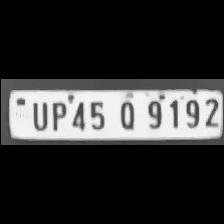1: (164, 97, 182, 129)
2: (200, 96, 220, 128)
4: (66, 98, 86, 132)
5: (84, 98, 106, 132)
9: (141, 97, 163, 130), (180, 96, 200, 130)
P: (47, 99, 67, 130)
Q: (113, 97, 140, 130)
U: (28, 98, 48, 130)
